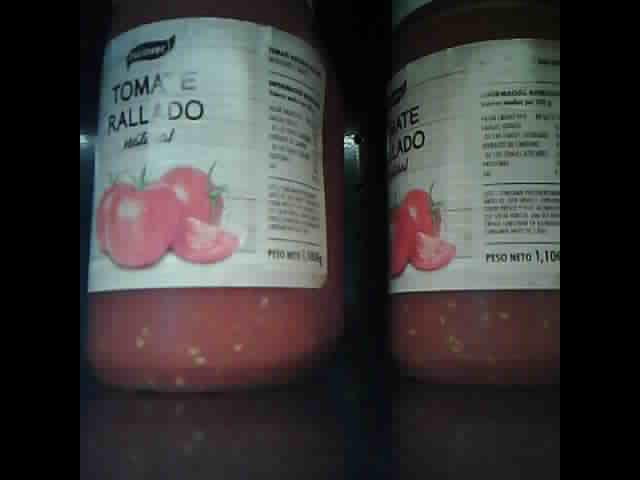tomate: (84, 6, 349, 393), (385, 13, 558, 389)
